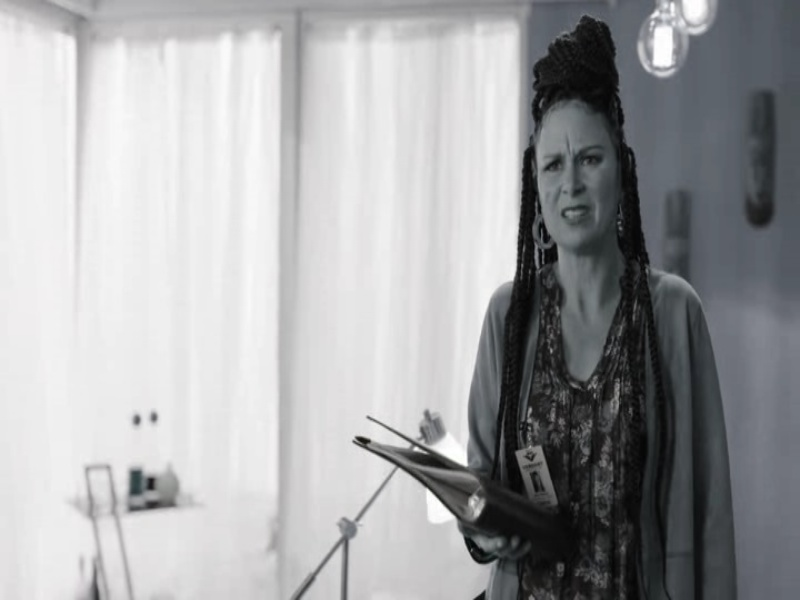TsisyArotava: (519, 90, 635, 258)
